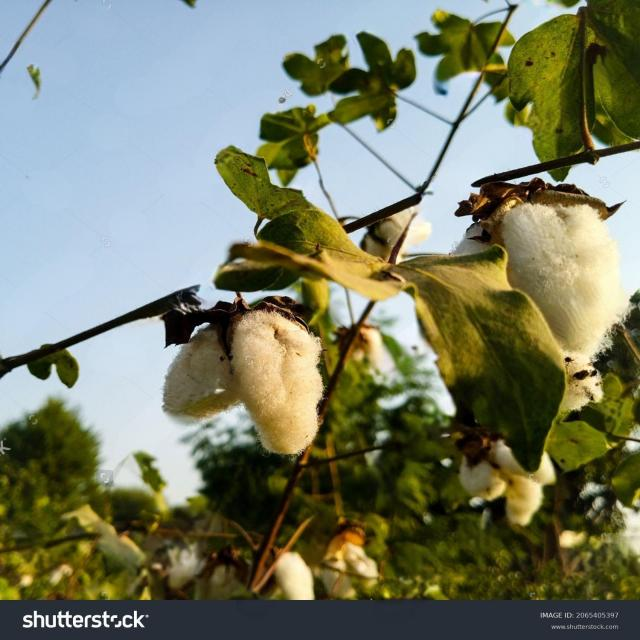Leaf: (449, 139, 637, 378), (154, 292, 330, 468), (437, 417, 577, 550), (271, 540, 326, 613)
